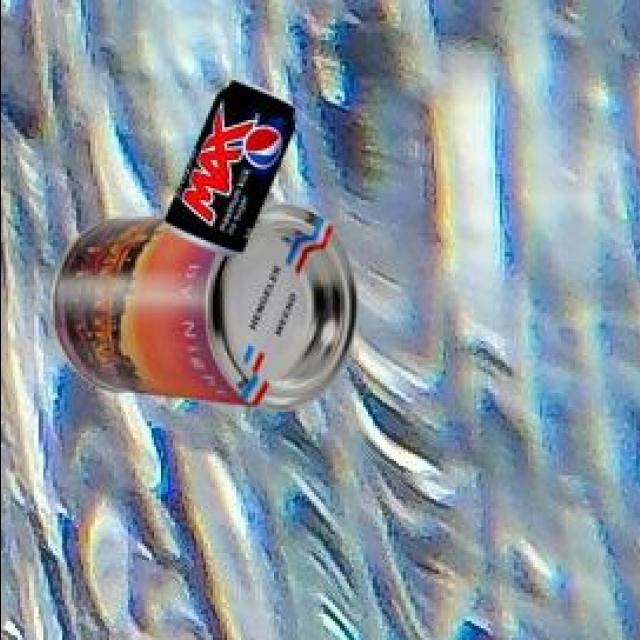logam: (55, 201, 359, 408), (168, 76, 298, 253)
